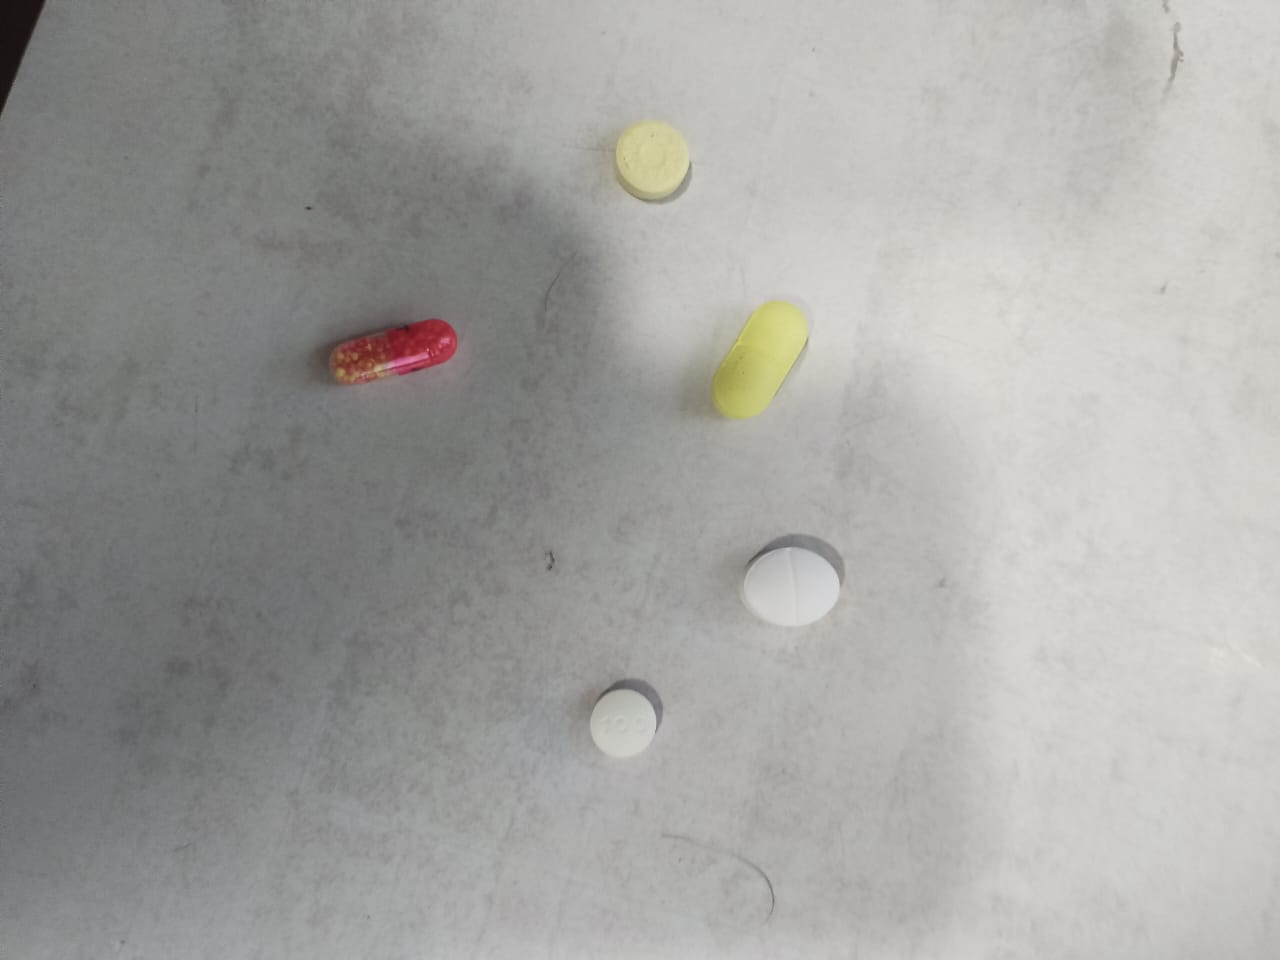Coldact: (322, 307, 458, 402)
Dolo 650: (721, 536, 852, 643)
Meftal SPAS: (609, 117, 690, 204)
Nise: (591, 681, 661, 769)
Norflox TZ: (711, 266, 810, 443)
